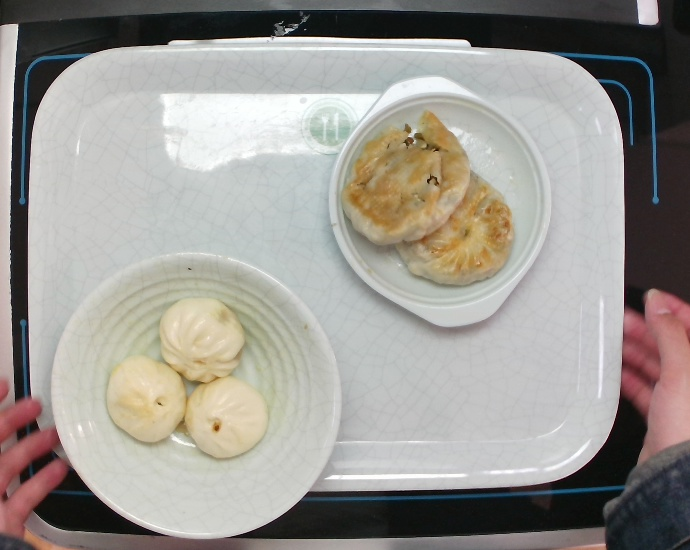JYsf-Shuang_Er_Pan: (322, 69, 556, 338)
JYsf-Xiao_Tang_Wan: (43, 245, 342, 544)
